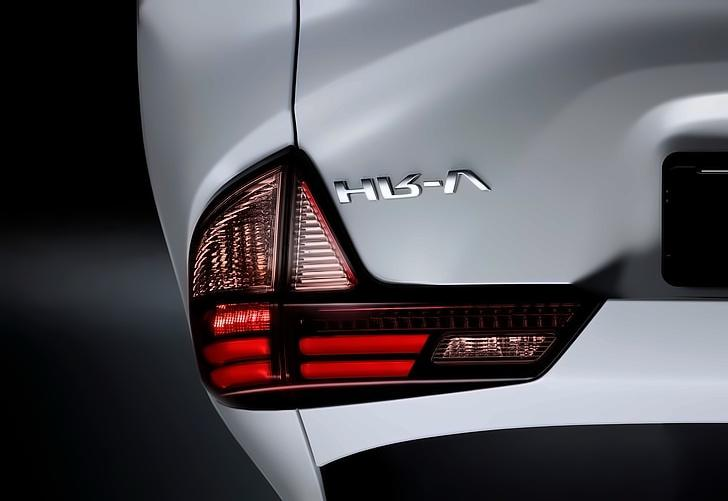Car boot: (286, 0, 728, 306)
Rear bumper: (122, 0, 300, 209)
Rear light - -R-: (173, 126, 640, 424)
